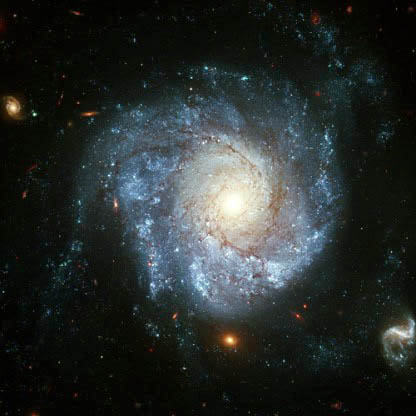NGC 1309: (6, 52, 409, 372)
